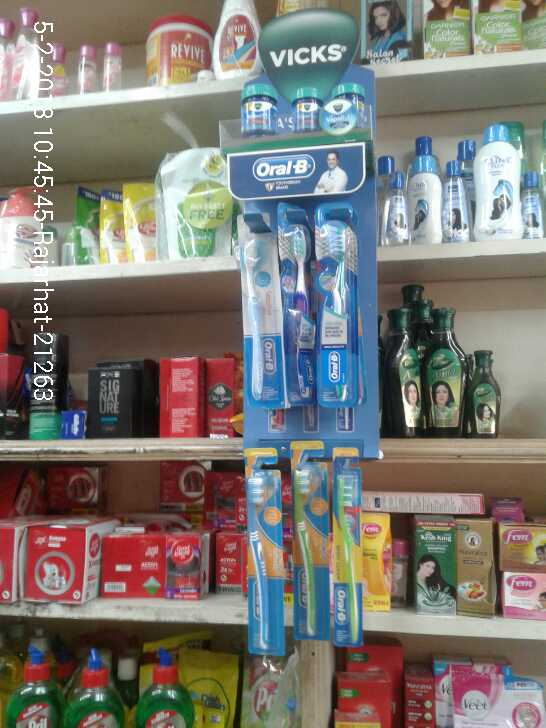pharmacy: (232, 211, 287, 402), (270, 203, 319, 404), (242, 450, 288, 654), (313, 205, 360, 400), (290, 434, 327, 646), (328, 445, 365, 639), (235, 84, 280, 137), (292, 85, 321, 131)
